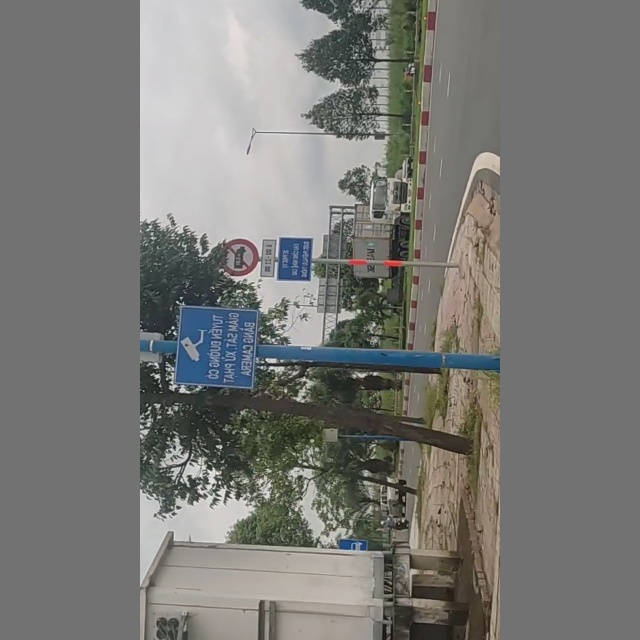Camera: (172, 306, 259, 384)
